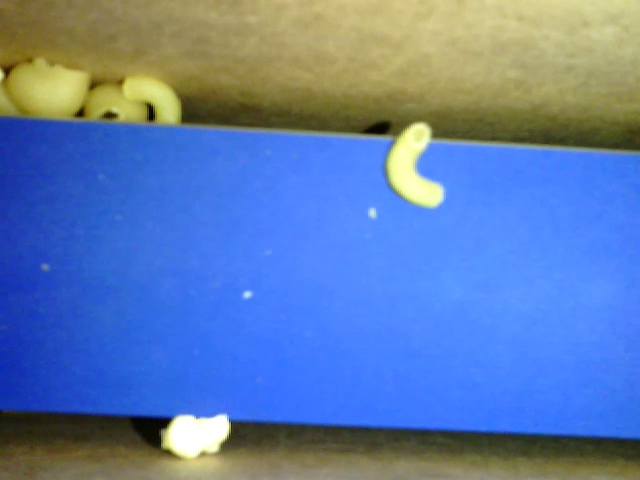elbow: (385, 119, 446, 210), (122, 72, 180, 122)
shell: (6, 55, 92, 120), (85, 82, 148, 124)
